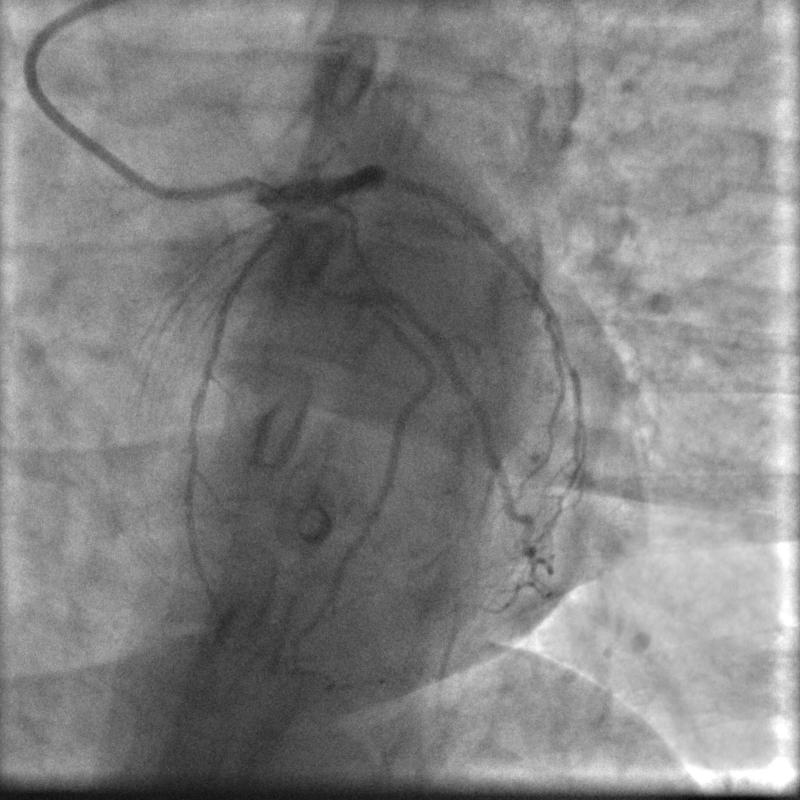Stenosis: (317, 264, 365, 316)
